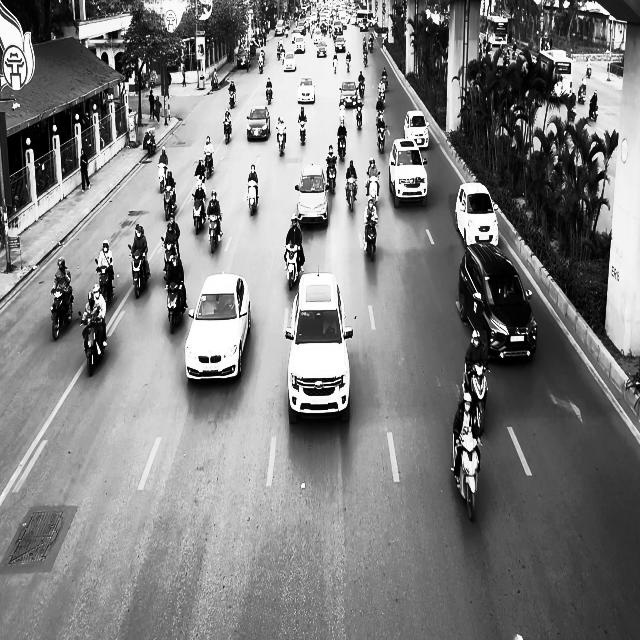bus: (539, 49, 573, 100), (486, 15, 509, 47)
car: (285, 268, 354, 424), (458, 242, 537, 361), (185, 270, 251, 382), (455, 182, 499, 248), (388, 138, 428, 208), (294, 163, 328, 225), (404, 110, 429, 148), (246, 106, 270, 140), (297, 75, 316, 103), (339, 80, 358, 108), (282, 52, 297, 71), (316, 40, 327, 57)
motorbike: (452, 431, 482, 521), (462, 362, 490, 433), (78, 310, 106, 377), (164, 277, 187, 334), (50, 287, 74, 340), (128, 244, 150, 299), (95, 258, 114, 303), (284, 244, 302, 290), (162, 236, 178, 281), (363, 218, 378, 261), (192, 192, 206, 235), (207, 213, 222, 253), (365, 172, 380, 204), (163, 185, 176, 220), (246, 178, 258, 215), (346, 176, 358, 212), (326, 157, 336, 193), (376, 124, 388, 154), (157, 163, 168, 193), (145, 127, 156, 156), (354, 100, 364, 129), (276, 128, 286, 156), (337, 132, 347, 160), (204, 152, 213, 178), (223, 119, 232, 144), (589, 96, 598, 121), (228, 88, 236, 108), (578, 84, 586, 104), (266, 86, 272, 105), (332, 57, 338, 74)
